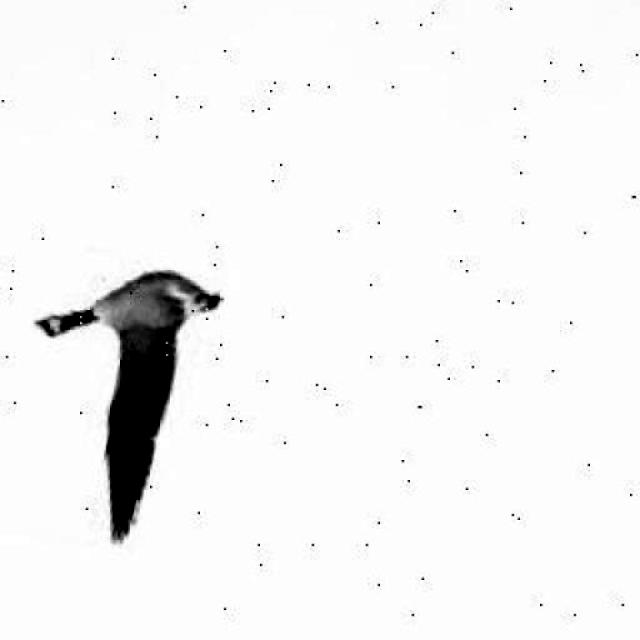airplane: (0, 242, 226, 559)
